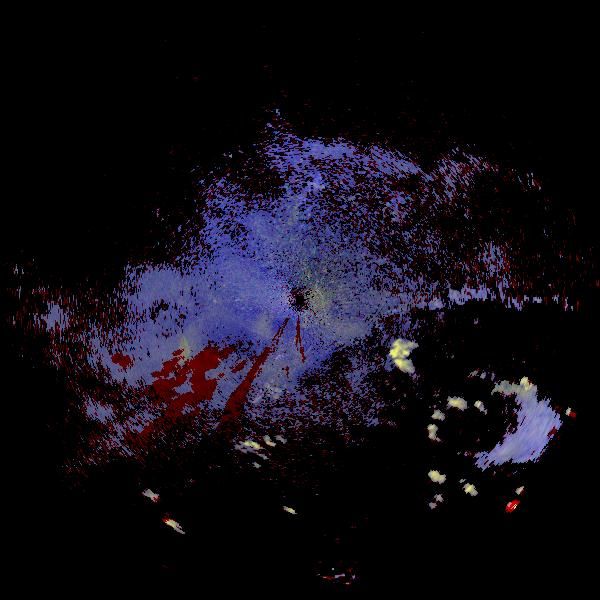roost: (132, 325, 204, 397)
